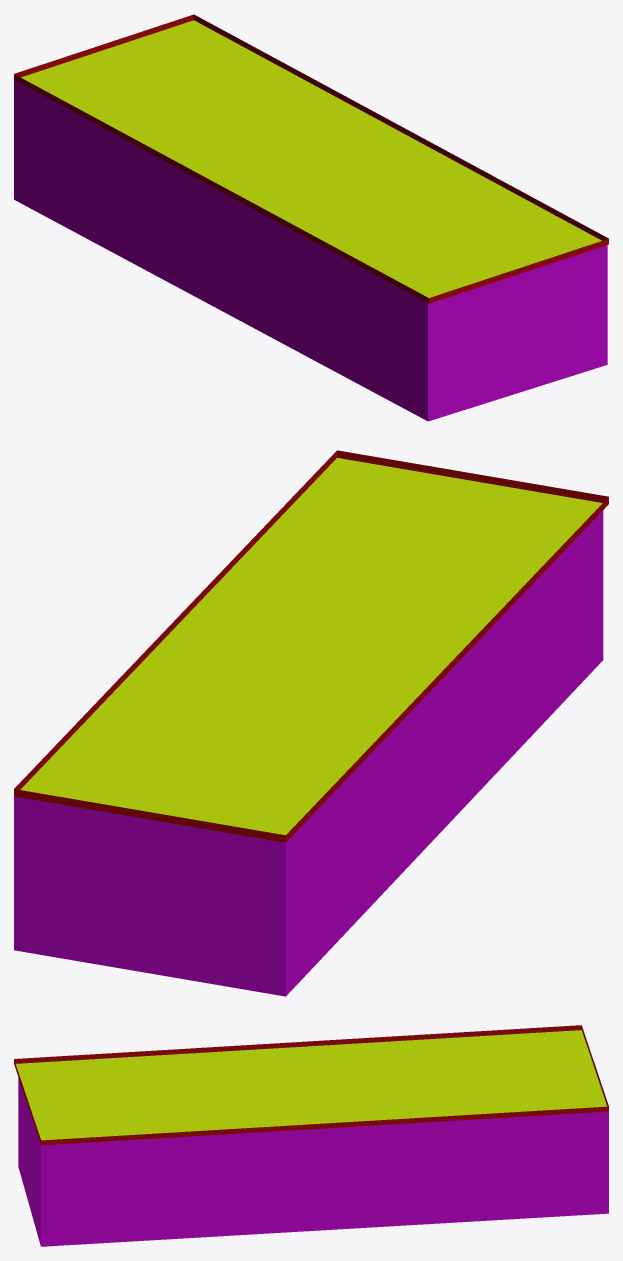
File: niv_33.glb
3 views of the same model, one above another, from view 1: azimuth 30°, elevation 25°; view 2: azimuth 150°, elevation 25°; view 3: azimuth 270°, elevation 25° (orthographic). The views are drawn at different scales.
Visible parts, largest first — view 1: niv_33; view 2: niv_33; view 3: niv_33.
Part boxes in pixels (bbox=[...]): niv_33: bbox=[14, 14, 608, 421]; niv_33: bbox=[14, 450, 608, 996]; niv_33: bbox=[14, 1025, 608, 1246].
Bounding box in the file's own units: 17.48 × 7.57 × 38.12.
